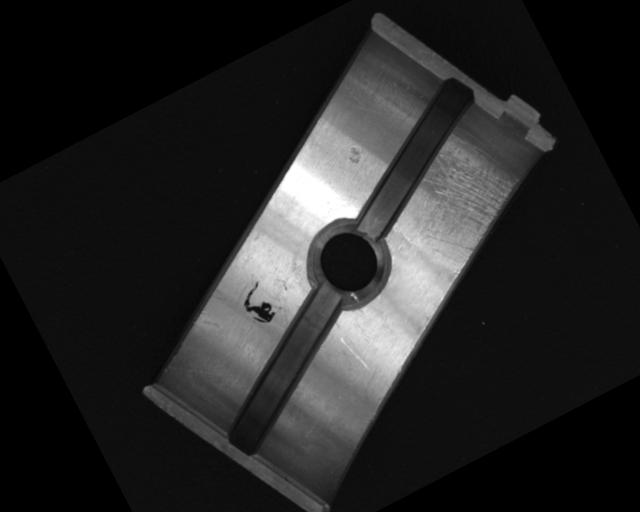blot: (234, 278, 281, 332)
bruise: (341, 141, 367, 167)
gap: (183, 284, 383, 462), (319, 73, 510, 240)
hole: (291, 207, 402, 320)
nick: (340, 332, 372, 377)
scratch: (383, 122, 540, 278)
